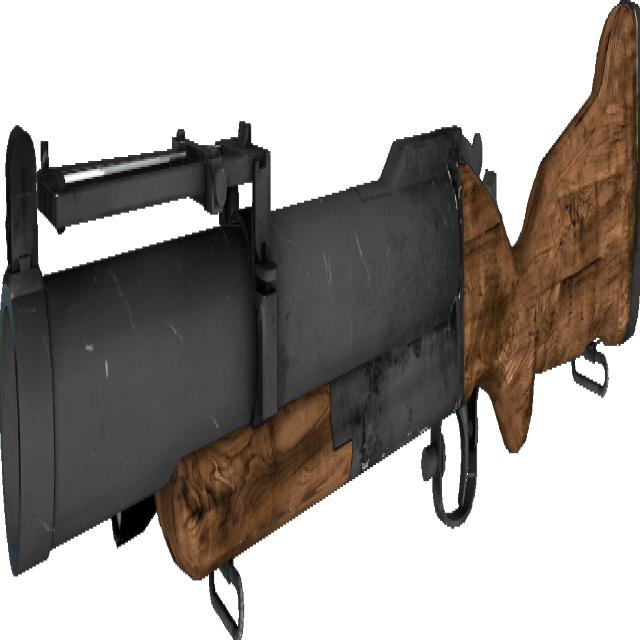Weapon: (1, 4, 640, 576)
